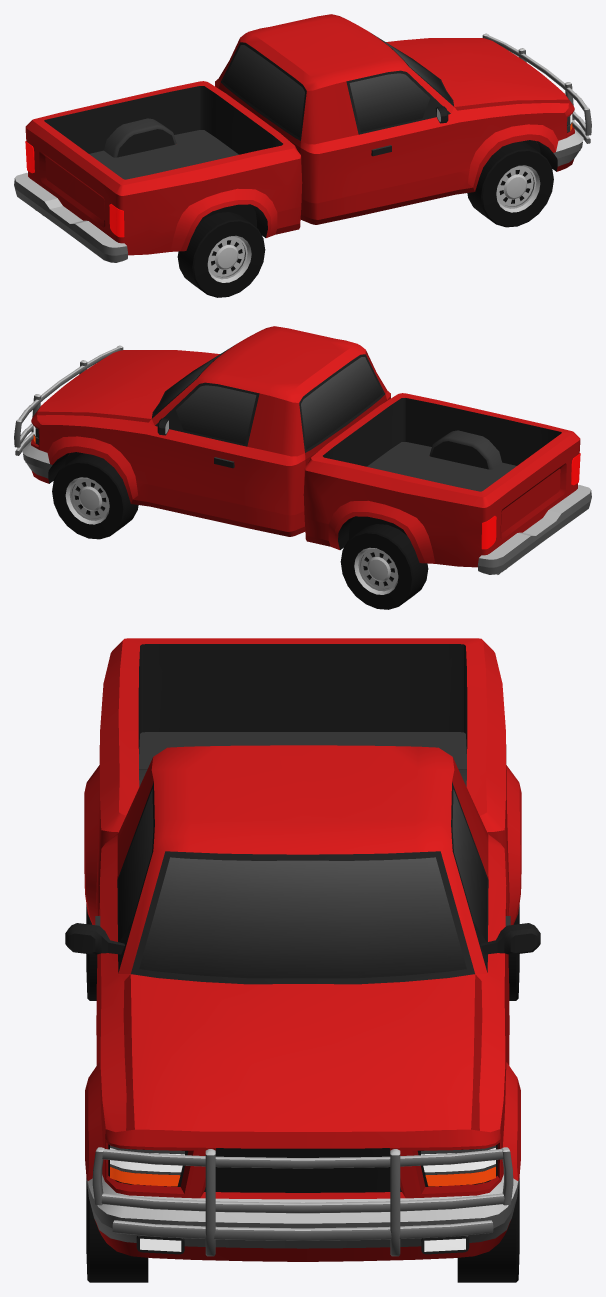
Rendered from Car_032.glb.
3 views of the same model, one above another, from view 1: azimuth 30°, elevation 25°; view 2: azimuth 150°, elevation 25°; view 3: azimuth 270°, elevation 25° (orthographic). The views are drawn at different scales.
Visible parts, largest first — view 1: Car_032, wheel_3_Car_032_Wheel_2R, wheel_1_Car_032_Wheel_1R; view 2: Car_032, wheel_2_Car_032_Wheel_2L, wheel_0_Car_032_Wheel_1L; view 3: Car_032, wheel_0_Car_032_Wheel_1L, wheel_1_Car_032_Wheel_1R.
Part boxes in pixels (box(x1,y1,x2,y2)): Car_032: box(14, 14, 591, 262); wheel_3_Car_032_Wheel_2R: box(177, 212, 265, 297); wheel_1_Car_032_Wheel_1R: box(467, 141, 553, 227); Car_032: box(14, 326, 591, 574); wheel_2_Car_032_Wheel_2L: box(340, 524, 428, 609); wheel_0_Car_032_Wheel_1L: box(52, 453, 138, 539); Car_032: box(65, 638, 540, 1261); wheel_0_Car_032_Wheel_1L: box(457, 1178, 519, 1282); wheel_1_Car_032_Wheel_1R: box(86, 1178, 148, 1282).
Bounding box in the file's own units: 5.08 × 1.74 × 2.12.
Materials: 2 (2 with a texture image).
